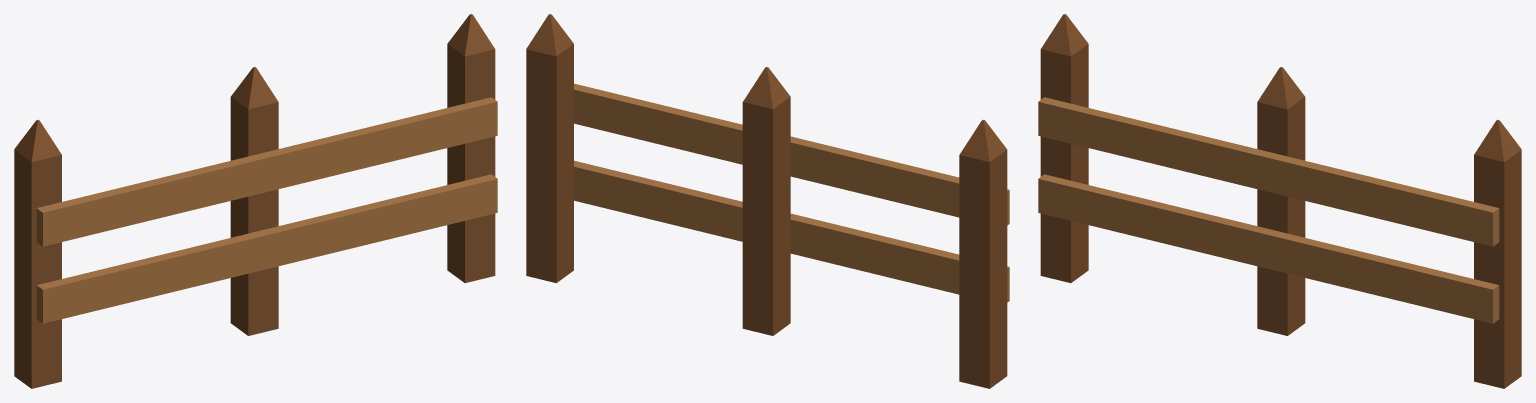
Rendered from Fence_Straight.fbx.
3 renders of one model, left to right at view 1: azimuth 30°, elevation 25°; view 2: azimuth 150°, elevation 25°; view 3: azimuth 330°, elevation 25°, orthographic.
Parts seen in each view (by area): view 1: Fence_Straight; view 2: Fence_Straight; view 3: Fence_Straight.
Part boxes in pixels (left/top/right/bottom): Fence_Straight: left=14, top=14, right=497, bottom=388; Fence_Straight: left=526, top=14, right=1009, bottom=388; Fence_Straight: left=1038, top=14, right=1521, bottom=388.
Bounding box in the file's own units: 2.14 × 1.14 × 0.195.
